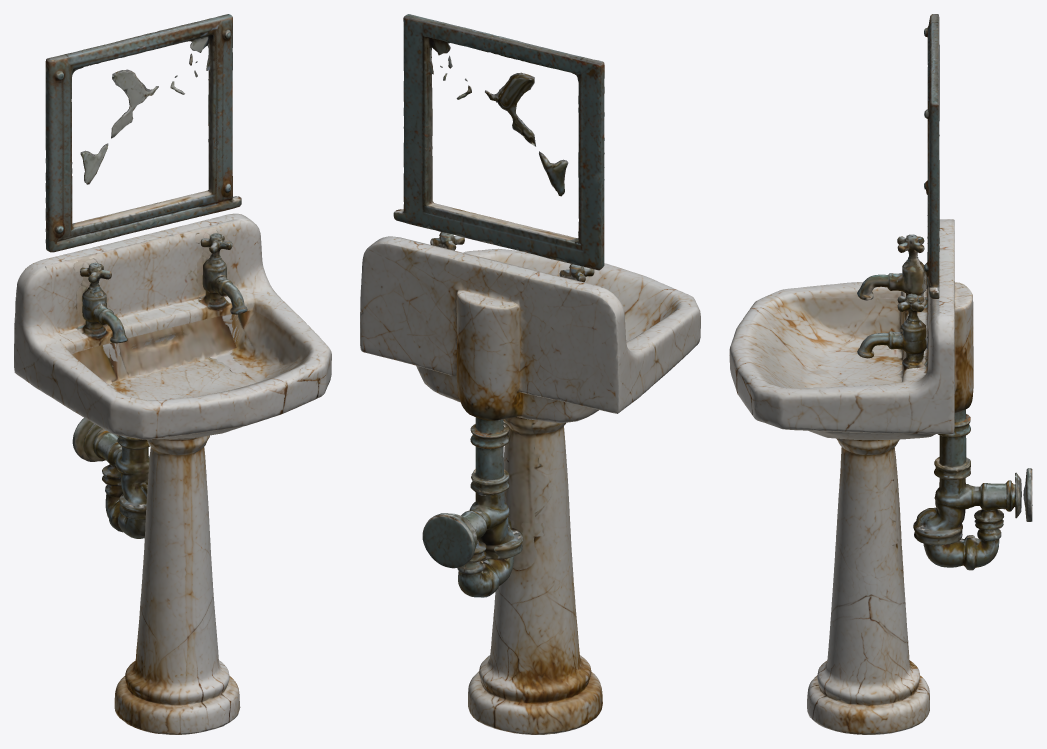
The model's file is Sink.fbx.
The picture shows the model from 3 angles, left to right: view 1: azimuth 30°, elevation 25°; view 2: azimuth 150°, elevation 25°; view 3: azimuth 270°, elevation 25°; orthographic projection. The views are drawn at different scales.
Visible parts, largest first — view 1: texture_mapping; view 2: texture_mapping; view 3: texture_mapping.
Boxes of the visible parts, left/top/right/bottom form: texture_mapping: left=14, top=14, right=331, bottom=734; texture_mapping: left=360, top=14, right=700, bottom=734; texture_mapping: left=729, top=14, right=1032, bottom=734.
Size of the model in its own units: 0.391 by 0.4239 by 1.
1 material, 1 textured.
